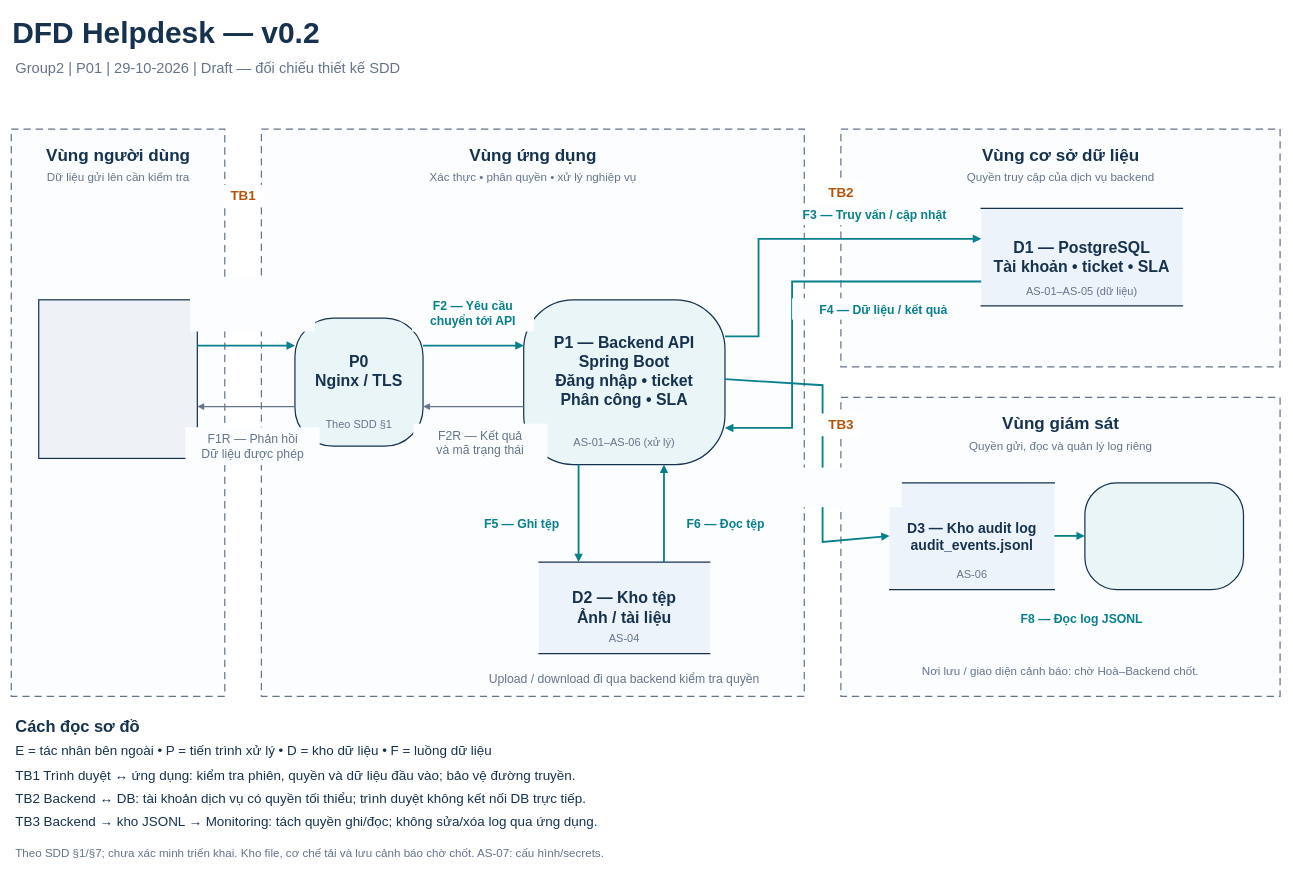
Some shapes in this 1293 by 874 pixel diagram are drawn without their labels. The centre of each missing label's shape, as x and y in pixels:
"E1 — Trình duyệt Employee IT Staff IT Manager System Admin" belongs at point (118, 379).
"F1 — HTTPS Đăng nhập / ticket và tệp đính kèm" belongs at point (252, 304).
"F7 — Ghi audit JSONL Không ghi mật khẩu/token" belongs at point (816, 487).
"P2 — Monitoring Đọc JSONL Phát hiện • cảnh báo" belongs at point (1164, 536).
